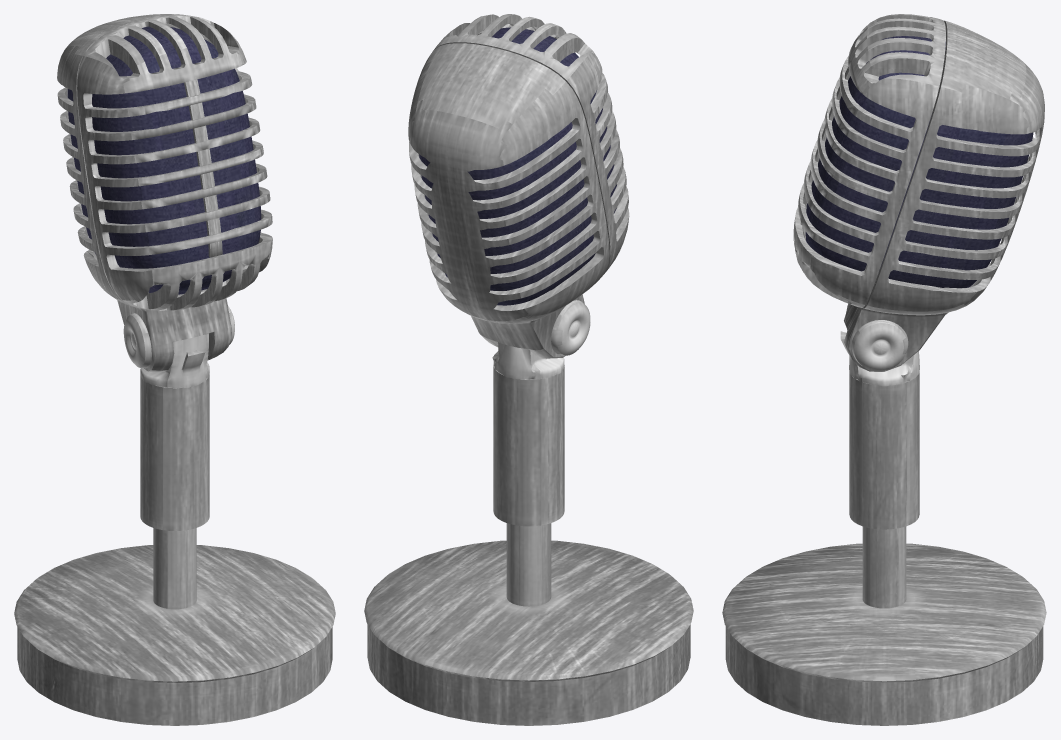
Rendered from mic.glb.
3 views of the same model, side by side, from view 1: azimuth 30°, elevation 25°; view 2: azimuth 150°, elevation 25°; view 3: azimuth 270°, elevation 25° (orthographic). The views are drawn at different scales.
Parts seen in each view (by area): view 1: Shure_55; view 2: Shure_55; view 3: Shure_55.
Boxes of the visible parts, <box> form: Shure_55: <box>14,14,335,725</box>; Shure_55: <box>364,14,693,725</box>; Shure_55: <box>722,14,1046,725</box>.
Size of the model in its own units: 0.204 by 0.4377 by 0.204.
1 material, 1 textured.
